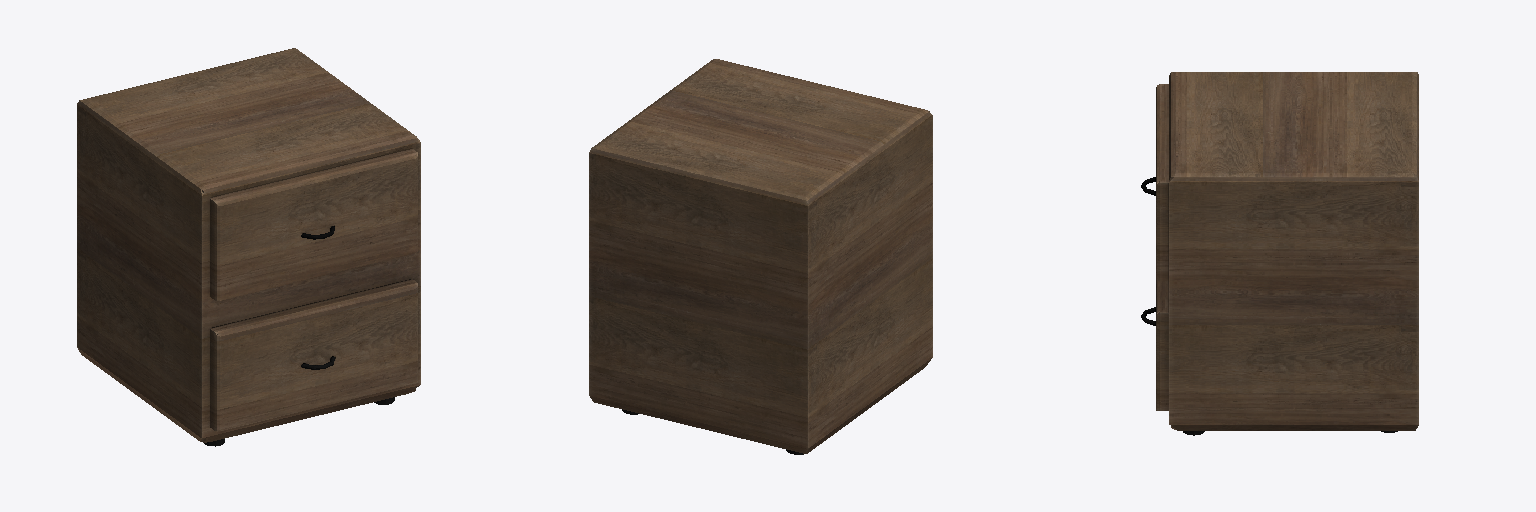
3 views of the same model, side by side, from view 1: azimuth 30°, elevation 25°; view 2: azimuth 150°, elevation 25°; view 3: azimuth 270°, elevation 25° (orthographic).
Parts seen in each view (by area): view 1: Объект_Куб, Объект_Куб.2, Объект_Куб.1; view 2: Объект_Куб; view 3: Объект_Куб, Объект_Куб.2, Объект_Куб.1.
Boxes of the visible parts, x1,y1,x2,y2 form: Объект_Куб: [77, 48, 420, 442]; Объект_Куб.2: [210, 149, 417, 300]; Объект_Куб.1: [210, 279, 417, 431]; Объект_Куб: [589, 59, 932, 453]; Объект_Куб: [1169, 72, 1418, 430]; Объект_Куб.2: [1156, 84, 1168, 280]; Объект_Куб.1: [1156, 280, 1168, 410].
Bounding box in the file's own units: 107 × 125 × 118.
1 materials, 1 textured.